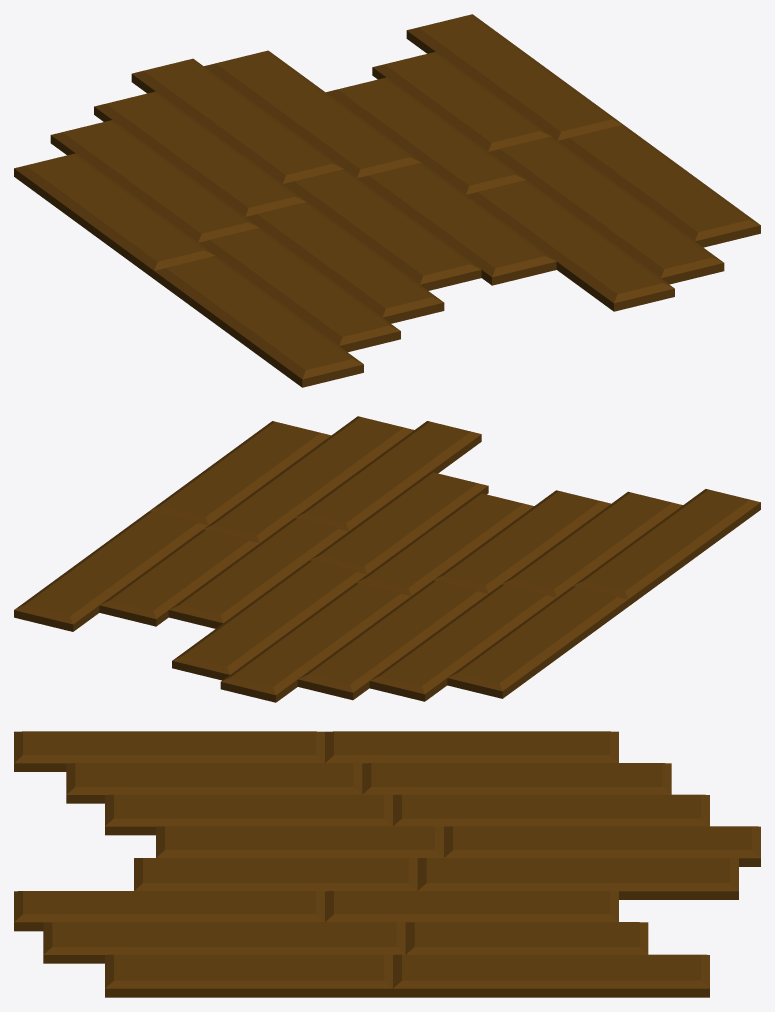
The model's file is WoodenFloorMid.fbx.
3 views of the same model, one above another, from view 1: azimuth 30°, elevation 25°; view 2: azimuth 150°, elevation 25°; view 3: azimuth 270°, elevation 25° (orthographic). The views are drawn at different scales.
Parts seen in each view (by area): view 1: Cube.1690, Cube.1684, Cube.1692, Cube.1687, Cube.1695, Cube.1699, Cube.1691, Cube.1694, Cube.1697, Cube.1688, Cube.1698, Cube.1685 (+4 smaller); view 2: Cube.1690, Cube.1692, Cube.1695, Cube.1684, Cube.1699, Cube.1694, Cube.1697, Cube.1698, Cube.1687, Cube.1691, Cube.1696, Cube.1688 (+4 smaller); view 3: Cube.1692, Cube.1691, Cube.1690, Cube.1695, Cube.1697, Cube.1684, Cube.1694, Cube.1686, Cube.1687, Cube.1698, Cube.1685, Cube.1699 (+4 smaller).
Boxes of the visible parts, <box> form: Cube.1690: <box>488,136,724,284</box>; Cube.1684: <box>154,256,363,387</box>; Cube.1692: <box>406,14,623,140</box>; Cube.1687: <box>466,180,674,311</box>; Cube.1695: <box>204,50,420,178</box>; Cube.1699: <box>14,153,215,278</box>; Cube.1691: <box>558,125,760,247</box>; Cube.1694: <box>131,58,343,183</box>; Cube.1697: <box>94,91,306,216</box>; Cube.1688: <box>357,162,556,285</box>; Cube.1698: <box>50,120,259,242</box>; Cube.1685: <box>198,228,400,352</box>; Cube.1690: <box>203,416,413,543</box>; Cube.1692: <box>14,511,207,631</box>; Cube.1695: <box>172,560,366,680</box>; Cube.1684: <box>573,489,760,606</box>; Cube.1699: <box>447,586,628,698</box>; Cube.1694: <box>220,583,410,702</box>; Cube.1697: <box>297,580,487,700</box>; Cube.1698: <box>369,584,556,701</box>; Cube.1687: <box>295,421,481,531</box>; Cube.1691: <box>150,421,330,525</box>; Cube.1696: <box>168,518,348,628</box>; Cube.1688: <box>310,471,488,574</box>; Cube.1692: <box>393,954,709,997</box>; Cube.1691: <box>105,954,392,997</box>; Cube.1690: <box>43,922,405,963</box>; Cube.1695: <box>417,858,738,899</box>; Cube.1697: <box>393,794,709,826</box>; Cube.1684: <box>14,731,324,771</box>; Cube.1694: <box>444,826,760,866</box>; Cube.1686: <box>105,794,392,835</box>; Cube.1687: <box>14,891,324,931</box>; Cube.1698: <box>362,763,671,794</box>; Cube.1685: <box>66,763,362,803</box>; Cube.1699: <box>325,731,618,763</box>.
Bounding box in the file's own units: 844 × 20 × 1037.
